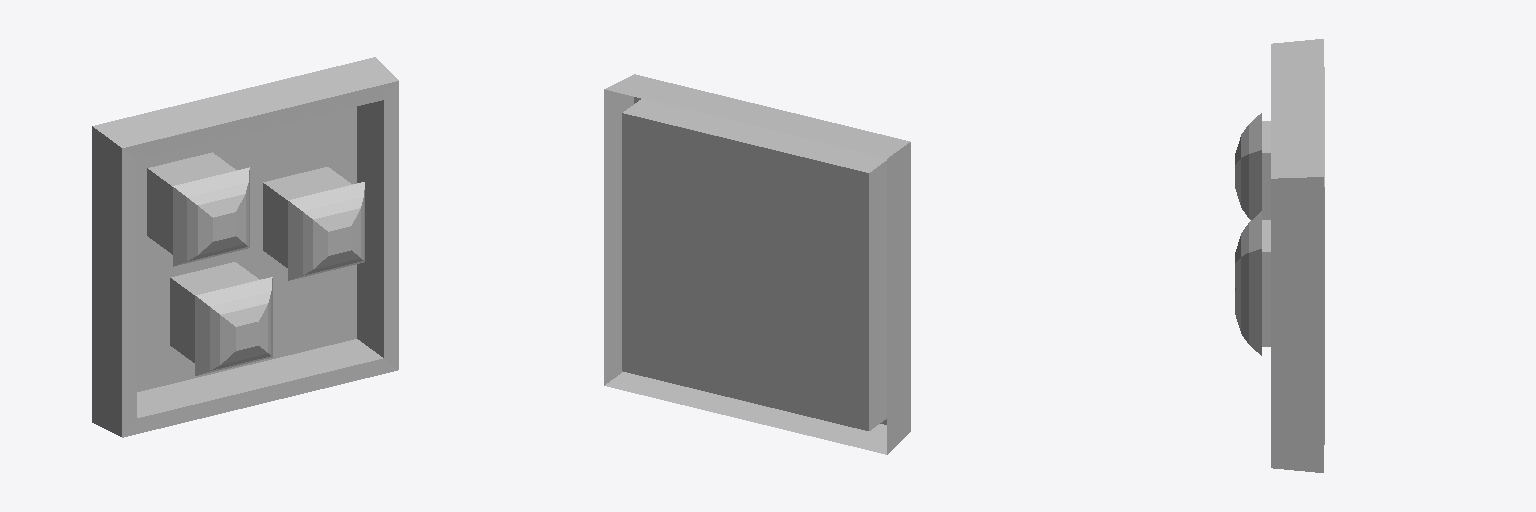
Rendered from native_town.obj.
The picture shows the model from 3 angles: view 1: azimuth 30°, elevation 25°; view 2: azimuth 150°, elevation 25°; view 3: azimuth 270°, elevation 25°; orthographic projection.
Visible parts, largest first — view 1: Plane_Plane.004, Plane.003_Plane.006, Plane.002, Plane.001_Plane.005; view 2: Plane_Plane.004; view 3: Plane_Plane.004, Plane.001_Plane.005, Plane.002, Plane.003_Plane.006.
Part boxes in pixels (x1,y1,x2,y2): Plane_Plane.004: (92,57,398,437); Plane.003_Plane.006: (170,262,272,375); Plane.002: (147,152,249,266); Plane.001_Plane.005: (263,167,364,280); Plane_Plane.004: (604,74,910,454); Plane_Plane.004: (1271,39,1324,472); Plane.001_Plane.005: (1235,211,1270,328); Plane.002: (1235,113,1270,219); Plane.003_Plane.006: (1235,288,1270,355).
Size of the model in its own units: 2.2 by 2.2 by 0.6.